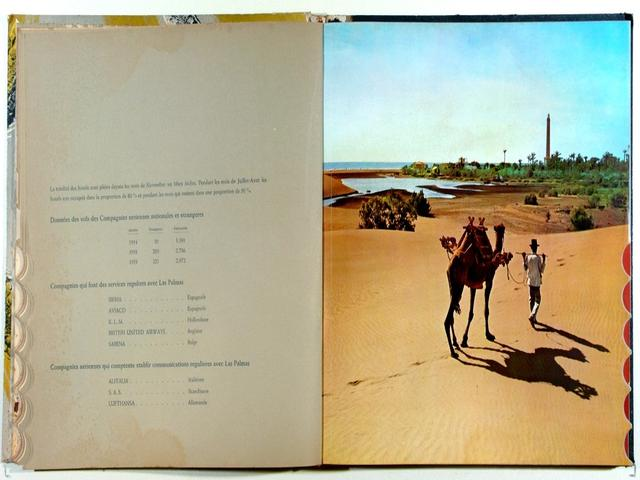camel: (428, 213, 517, 372), (473, 329, 603, 402)
